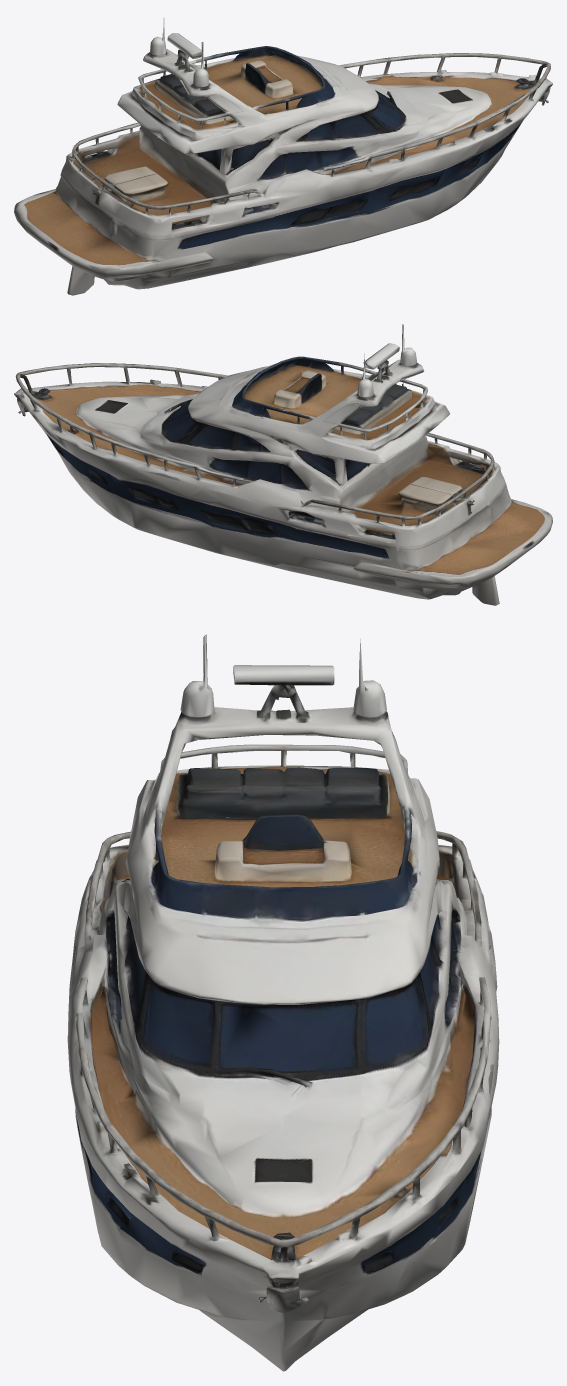
File: boat-yacht.glb
3 views of the same model, one above another, from view 1: azimuth 30°, elevation 25°; view 2: azimuth 150°, elevation 25°; view 3: azimuth 270°, elevation 25° (orthographic). The views are drawn at different scales.
Visible parts, largest first — view 1: tripo_node_5e2802d6-4eb1-451c-a527-a315ef37b9b6; view 2: tripo_node_5e2802d6-4eb1-451c-a527-a315ef37b9b6; view 3: tripo_node_5e2802d6-4eb1-451c-a527-a315ef37b9b6.
Boxes of the visible parts, left/top/right/bottom form: tripo_node_5e2802d6-4eb1-451c-a527-a315ef37b9b6: left=14, top=18, right=552, bottom=295; tripo_node_5e2802d6-4eb1-451c-a527-a315ef37b9b6: left=14, top=324, right=552, bottom=605; tripo_node_5e2802d6-4eb1-451c-a527-a315ef37b9b6: left=67, top=634, right=499, bottom=1371.
Bounding box in the file's own units: 1 × 0.4617 × 0.3699.
Materials: 1 (1 with a texture image).
